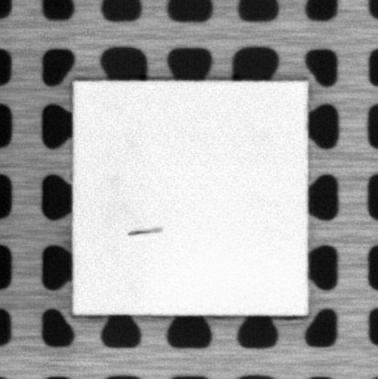DIE_INK: (126, 226, 164, 237)
